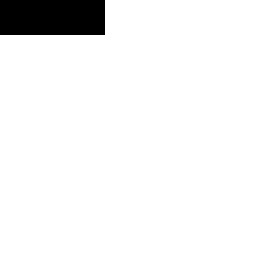rumex: (105, 0, 256, 256), (0, 35, 104, 255)
